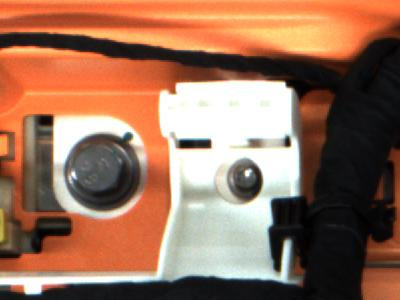nut_b: (57, 135, 154, 212)
